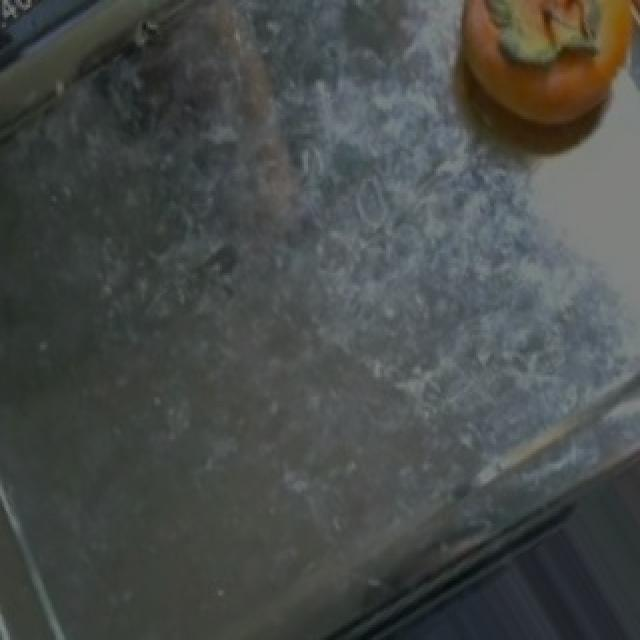Fruit: (430, 0, 640, 161), (0, 0, 144, 72)
